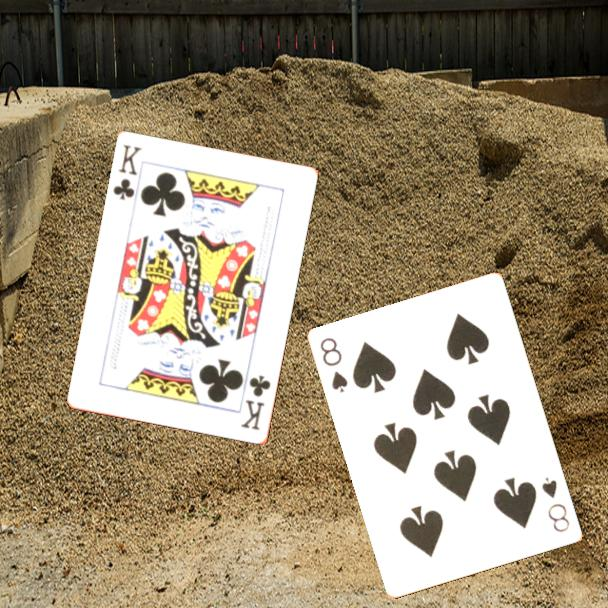c13: (237, 372, 274, 433), (110, 142, 145, 203)
s08: (317, 334, 351, 396), (539, 474, 573, 535)
